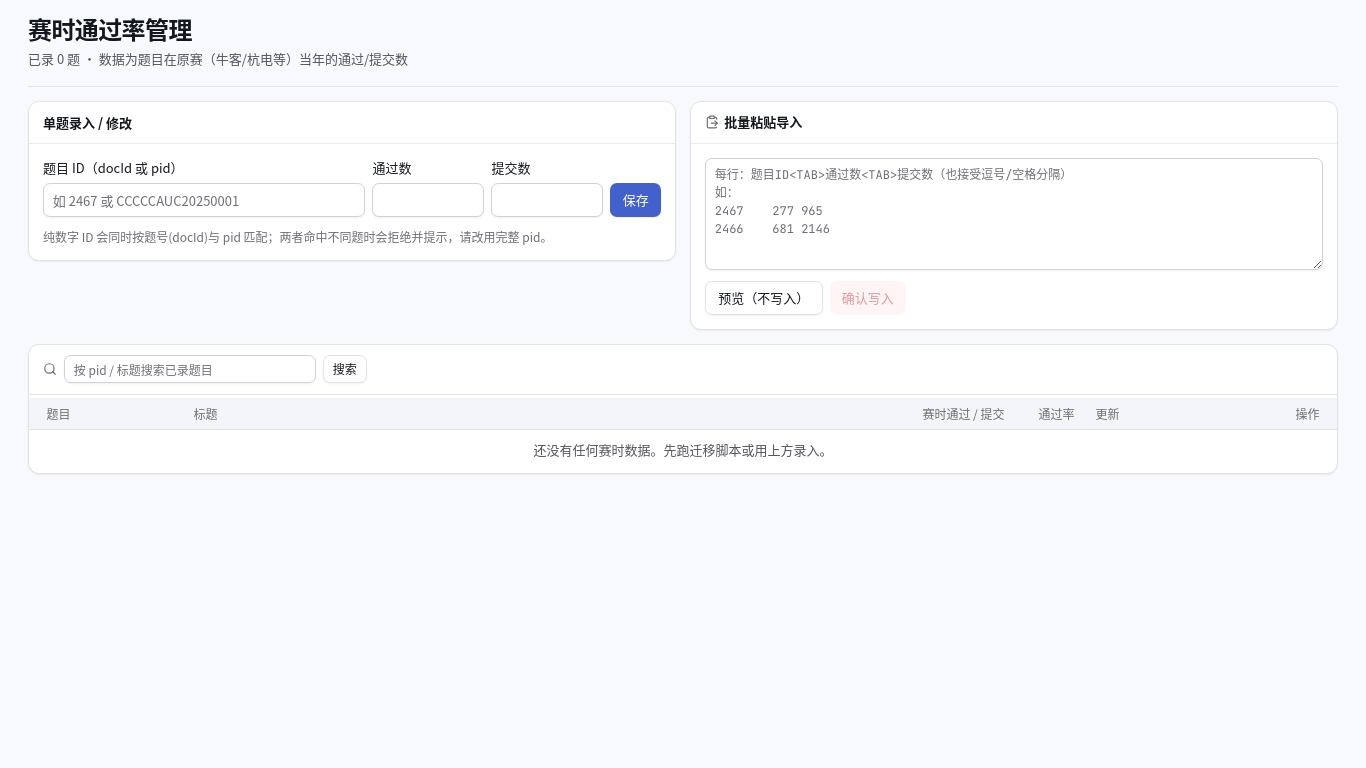
Test case: real-pass management page › surfaces a server error message from a failed preview
Type "42 1 2" into the text box with placeholder "每行：题目ID" at (1014,214), box [705,158,1323,270]
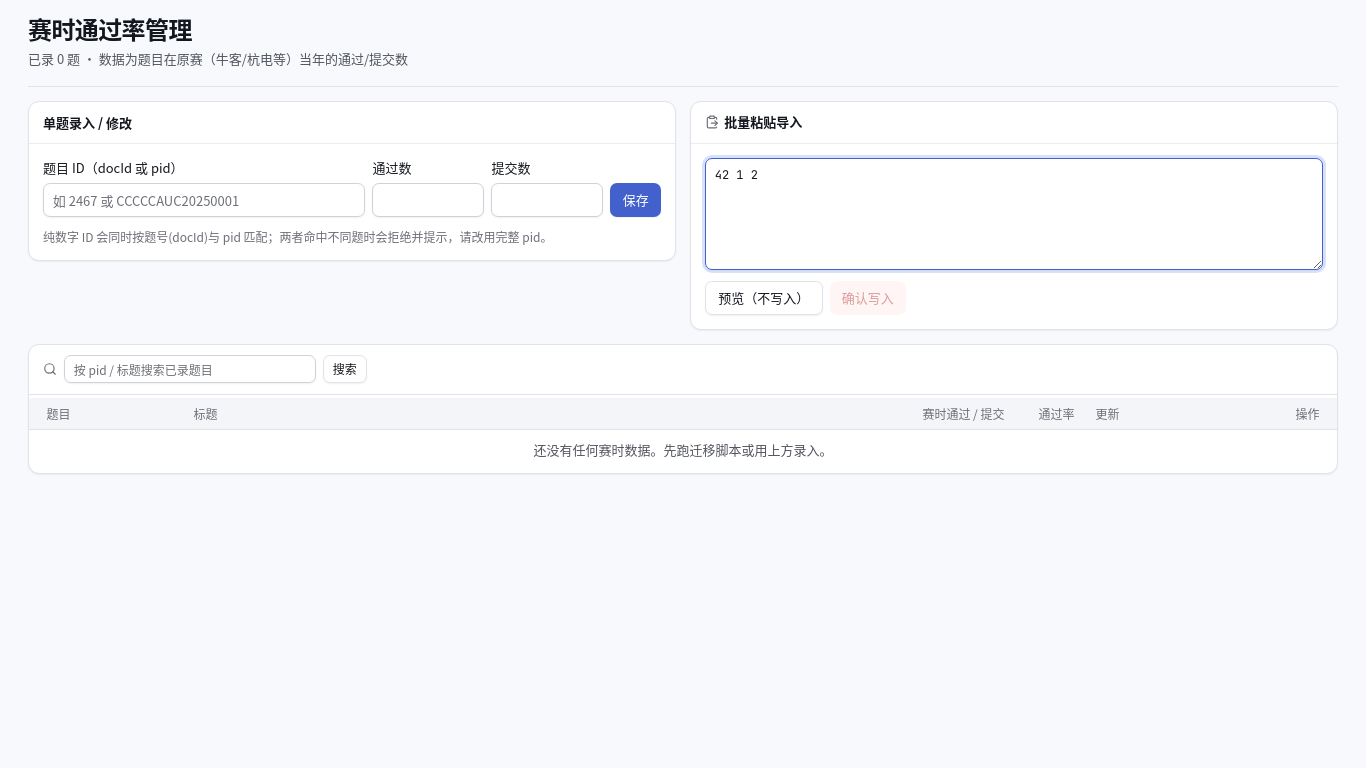
Click the button "预览（不写入）" at (764,298), box [705,281,822,315]
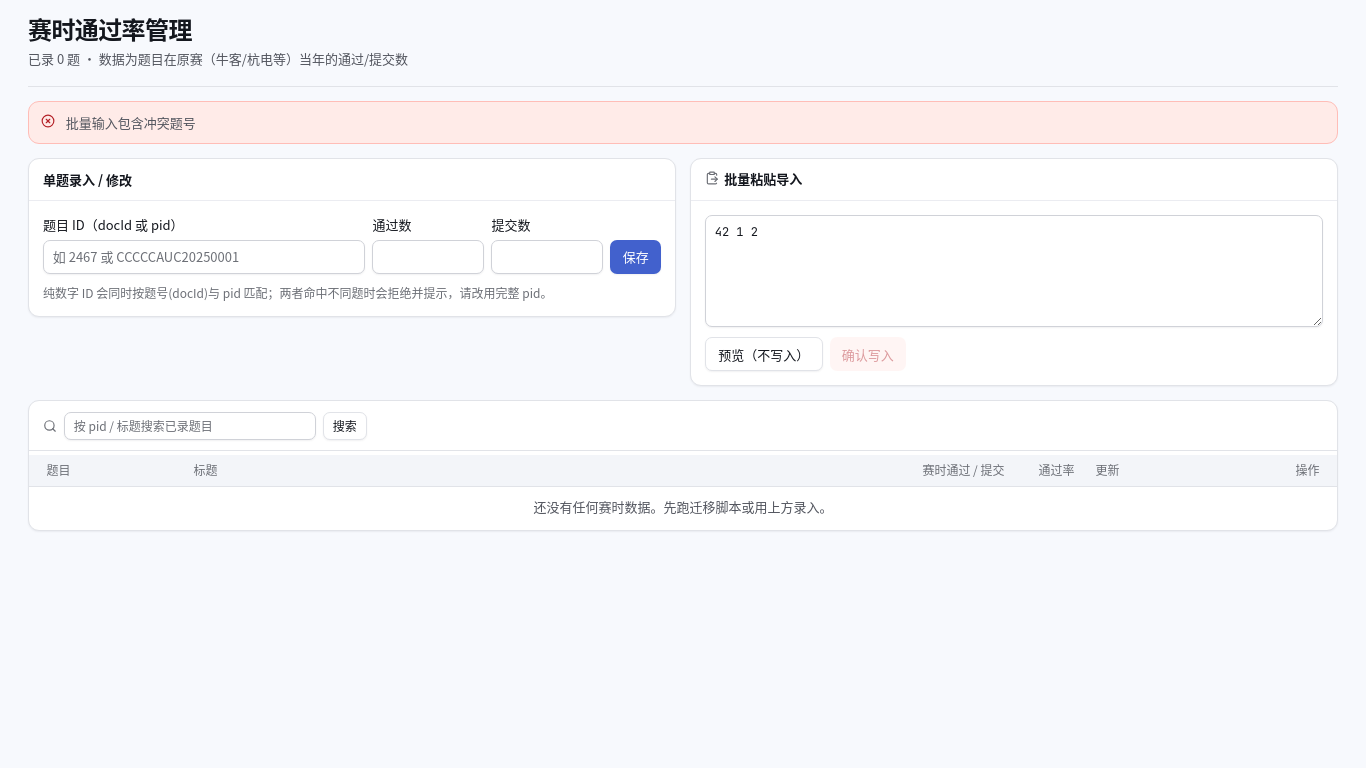
Check: the text "批量输入包含冲突题号" is shown, box [66,113,196,132]
